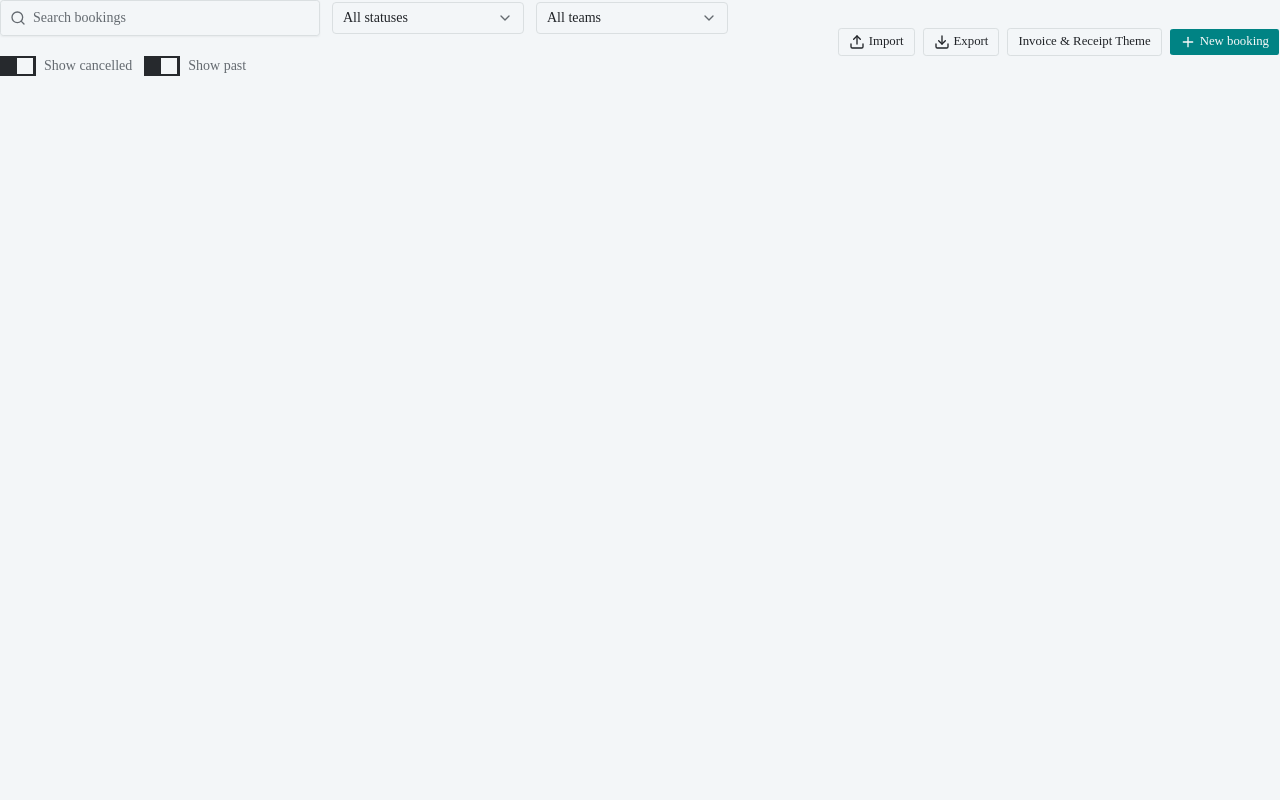
Test: BookingsToolbar — export › opens the export dialog rather than downloading straight away
Click the button "Export" at (961, 42), box [922,28,999,56]
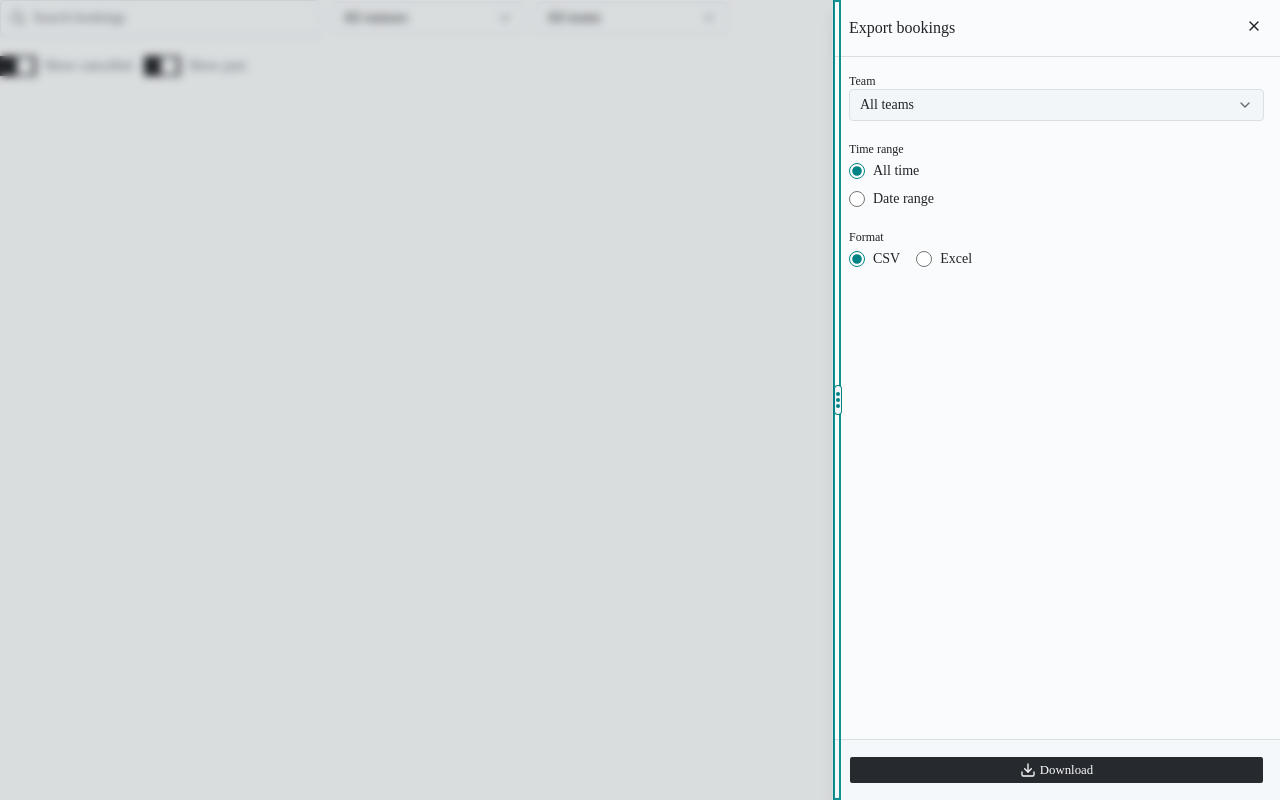
Now the dialog is shown, box [832,0,1279,799]
Now the button "Download" is shown, box [849,756,1264,784]
